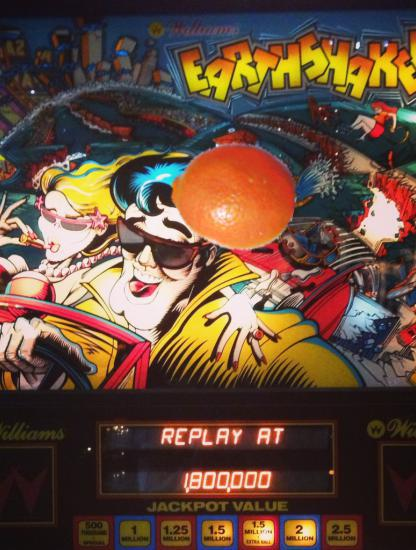Tangelo: (170, 132, 296, 258)
